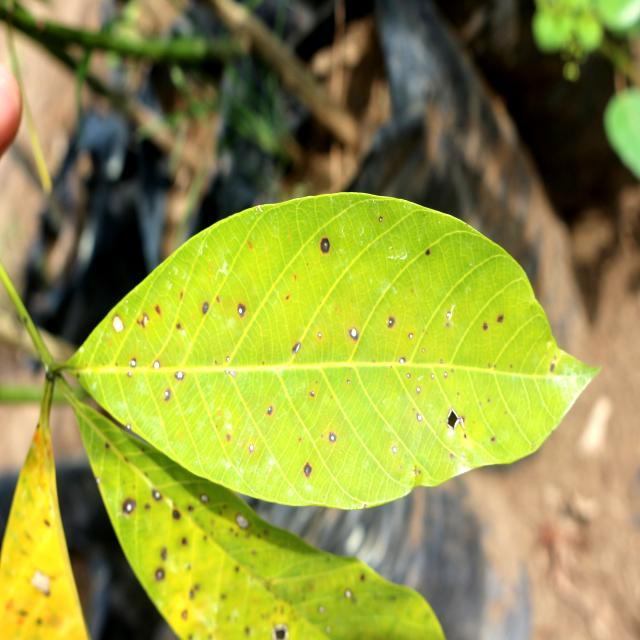Colletotrichum: (320, 237, 330, 253)
